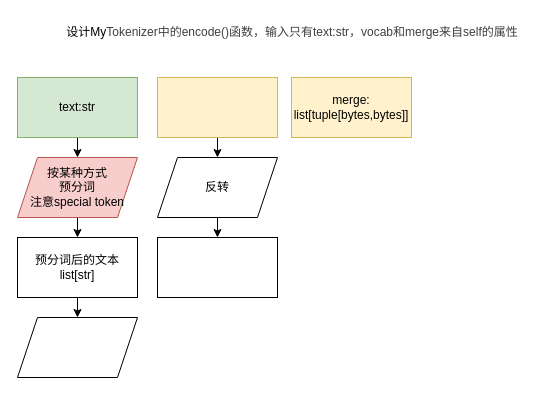
This 555x395 diagram has some shape labels left out. The shapes that lost their labels are listed below. From the top down, each one's box as (x1, y1, x2, y2) in pixels, then its label:
(156, 76, 278, 138): vocab: dict[int,bytes]
(156, 236, 278, 298): vocab_reverse
(16, 316, 138, 378): 转为bytes
